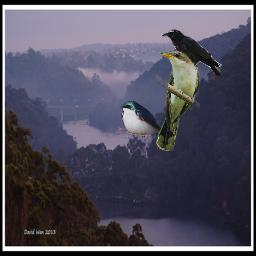Crow: (161, 29, 222, 76)
Cuckoo: (156, 51, 200, 151)
Swallow: (119, 100, 173, 137)
